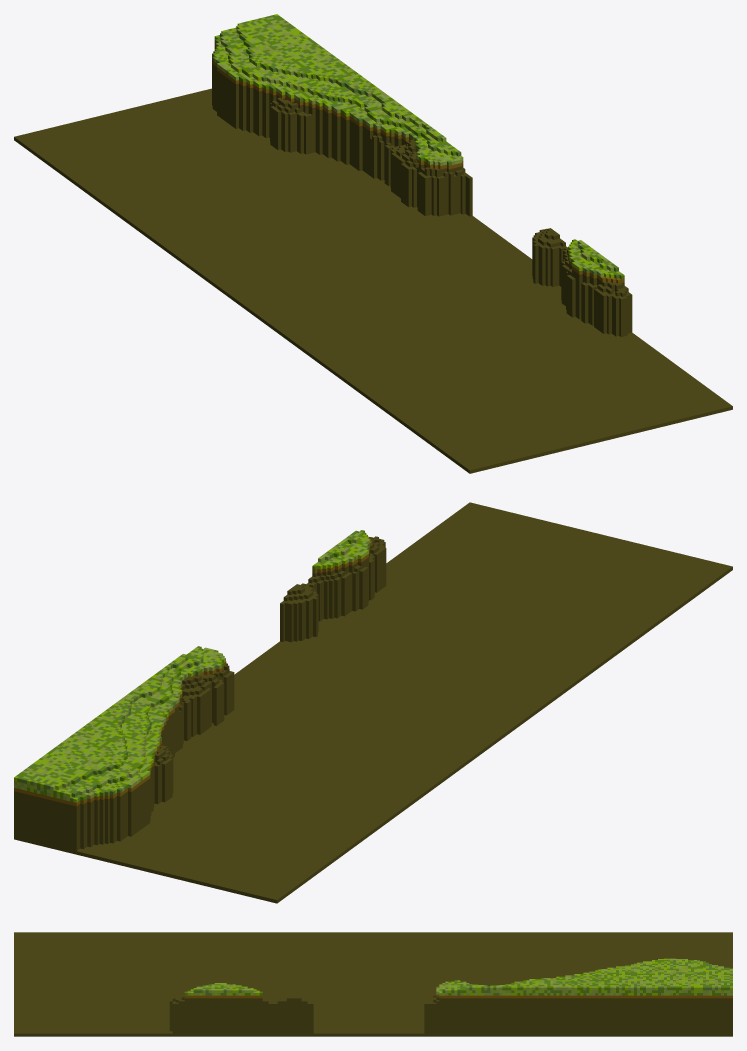
Rendered from Tab A5-0.obj.
The picture shows the model from 3 angles, top to bottom: view 1: azimuth 30°, elevation 25°; view 2: azimuth 150°, elevation 25°; view 3: azimuth 270°, elevation 25°; orthographic projection. The views are drawn at different scales.
Size of the model in its own units: 8 by 1.8 by 24.
1 material, 1 textured.
